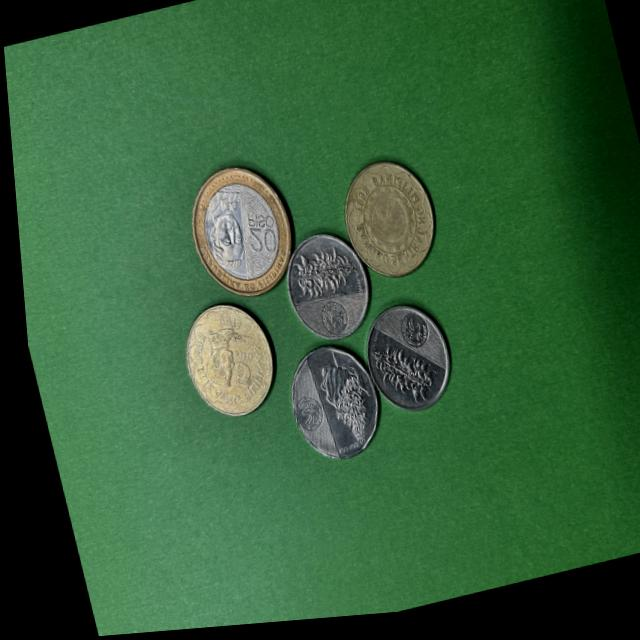10_New_Back: (307, 345, 378, 459)
20_New_Front: (232, 208, 279, 266)
5_New_Back: (359, 341, 439, 416), (282, 241, 355, 313)
5_Old_Back: (327, 156, 440, 288)
